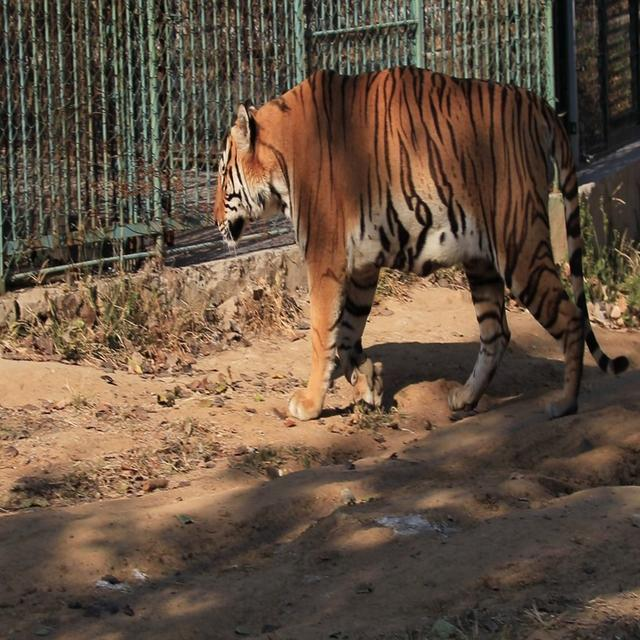tiger: (212, 63, 629, 423)
